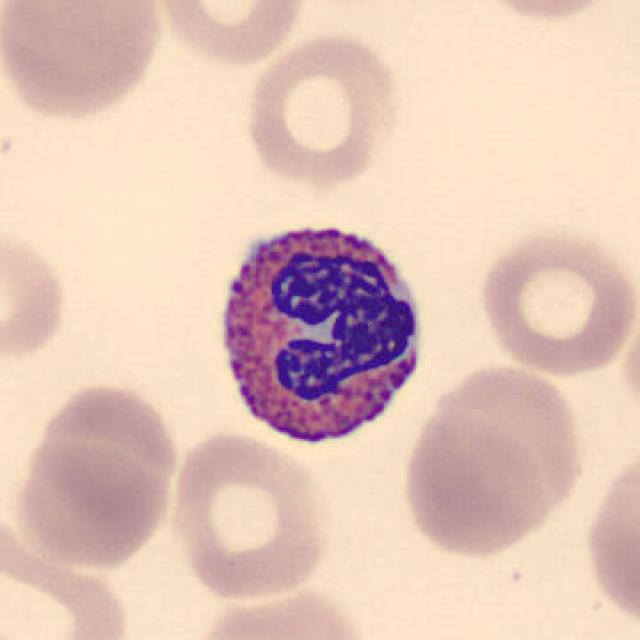Eosinophil: (206, 206, 436, 460)
RBC: (394, 368, 570, 562), (164, 428, 334, 603), (240, 28, 405, 190), (473, 220, 636, 379), (436, 360, 589, 526), (9, 435, 178, 573), (29, 378, 180, 531), (0, 0, 169, 125), (0, 532, 137, 640), (183, 578, 375, 640), (580, 439, 638, 635), (149, 0, 311, 69), (0, 222, 73, 369), (458, 0, 628, 25)
